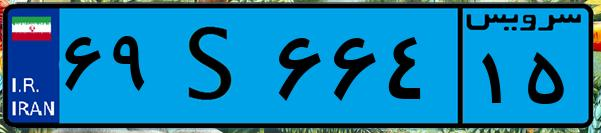1: (475, 38, 525, 113)
4: (385, 28, 445, 110)
5: (525, 38, 570, 115)
6: (270, 28, 330, 110), (330, 28, 385, 110), (57, 26, 110, 100)
9: (110, 28, 158, 98)
S: (158, 12, 270, 120)
